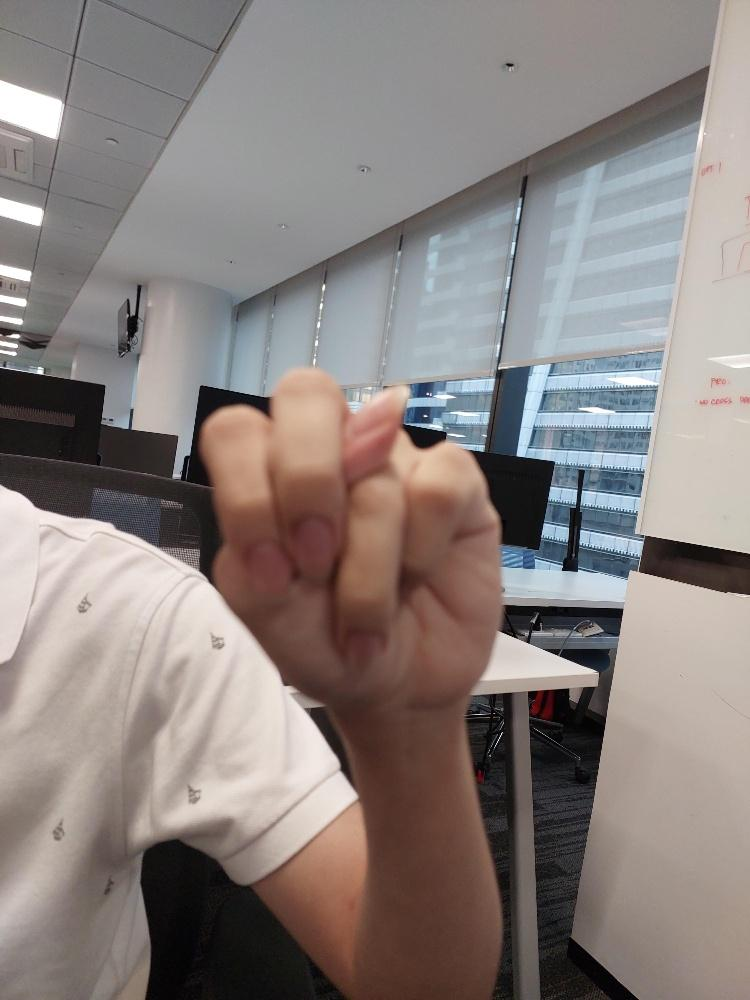n: (196, 361, 506, 711)
